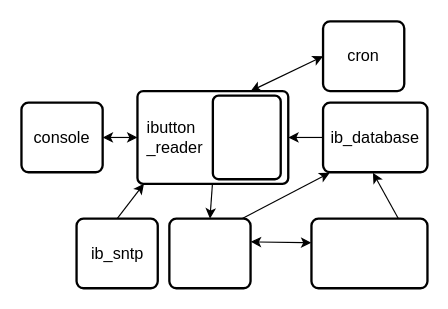
Image size: 448x309. Some labels were removed from this diagram. Here are the shapes that lost their labels. From the top down, the box of each, then its label:
(211, 94, 281, 180): ibutton
(168, 217, 251, 289): ib_log
(310, 217, 428, 289): ib_http_client
